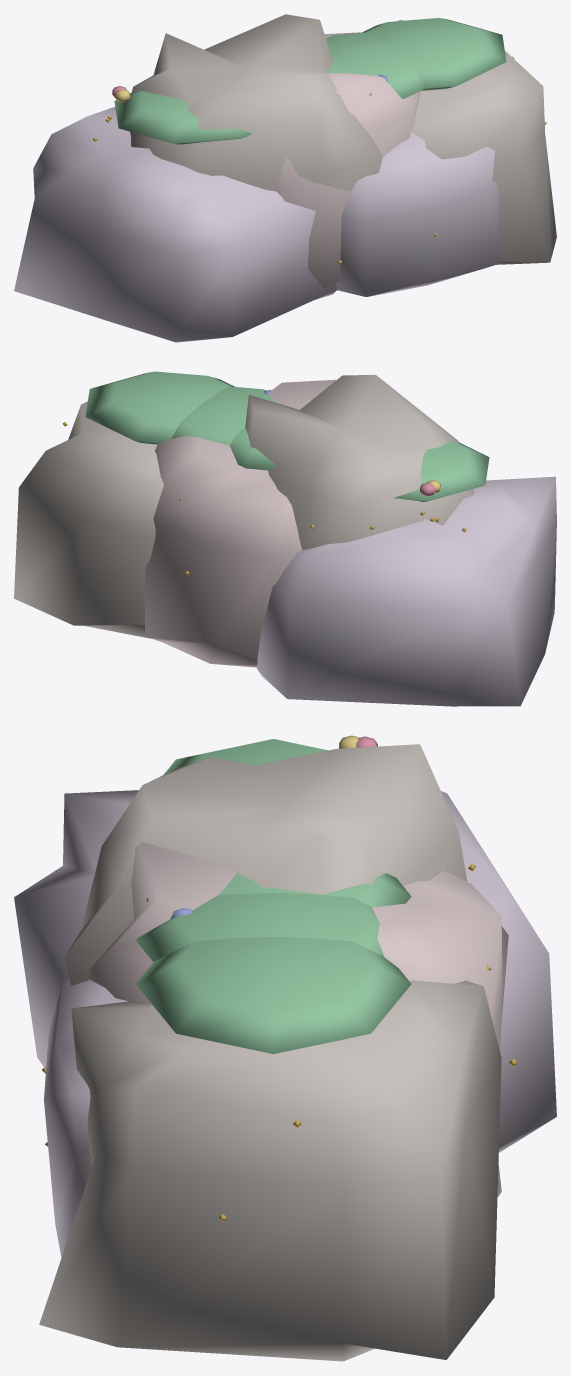
File: escarpment_rock_b.gltf
The picture shows the model from 3 angles, top to bottom: view 1: azimuth 30°, elevation 25°; view 2: azimuth 150°, elevation 25°; view 3: azimuth 270°, elevation 25°; orthographic projection. The views are drawn at different scales.
Visible parts, largest first — view 1: escarpment_rock_b; view 2: escarpment_rock_b; view 3: escarpment_rock_b.
Part boxes in pixels (x1,y1,x2,y2): escarpment_rock_b: [14, 14, 556, 342]; escarpment_rock_b: [14, 371, 556, 706]; escarpment_rock_b: [14, 735, 556, 1361].
Size of what is drawn, in the model's own units: 10.18 by 4.49 by 5.9.
